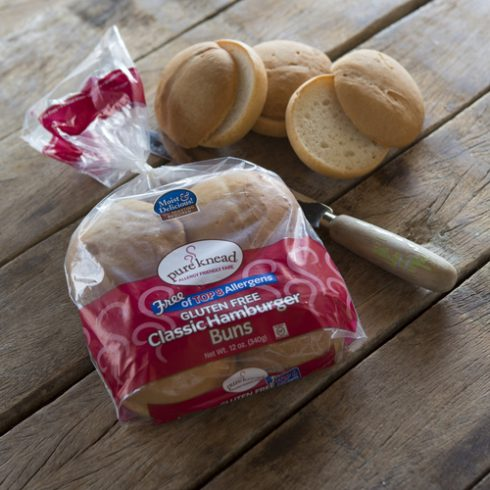hamburger_buns: (79, 122, 339, 440), (167, 26, 437, 164)
